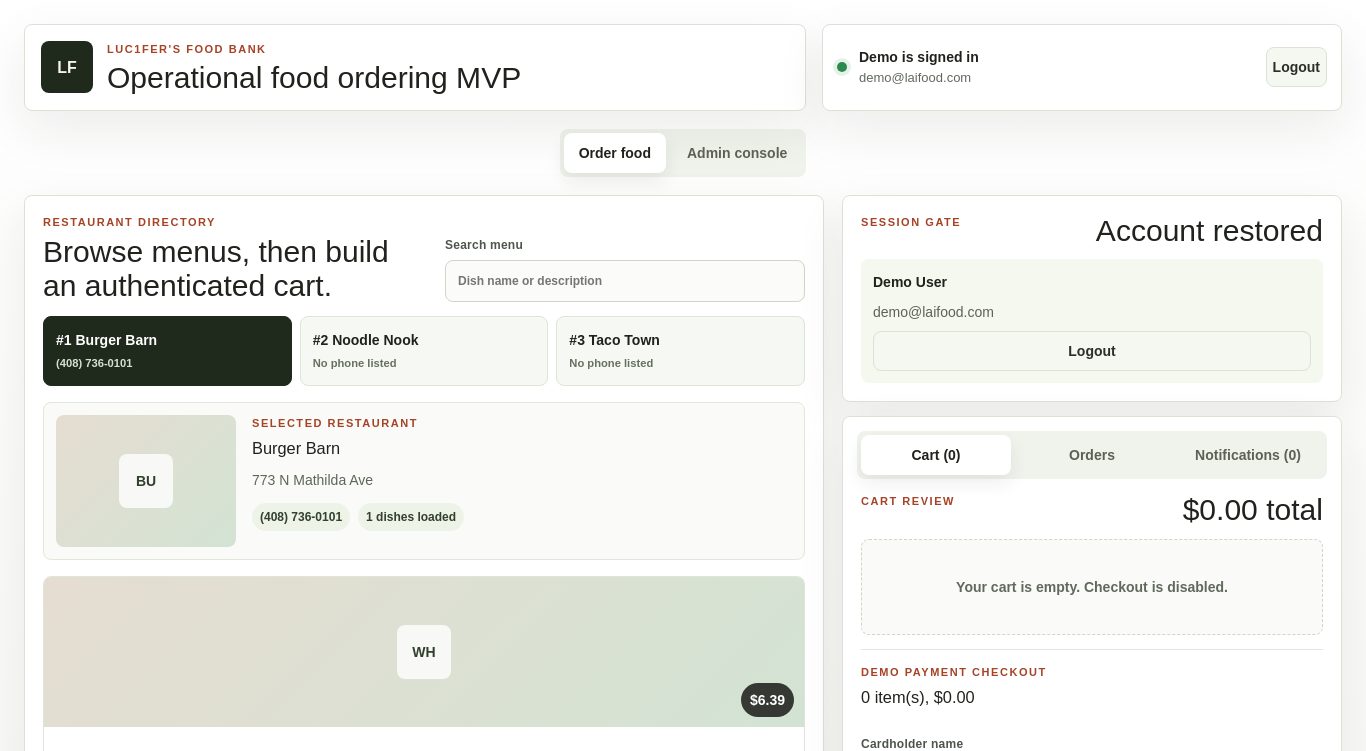
Test: role-based workspaces › lets a customer who is an admin switch between ordering and the admin console
expect the text "Demo is signed in" is shown: met, box [859,49,979,65]
Click the button "Admin console".
click(737, 153)  # box [672,133,802,173]
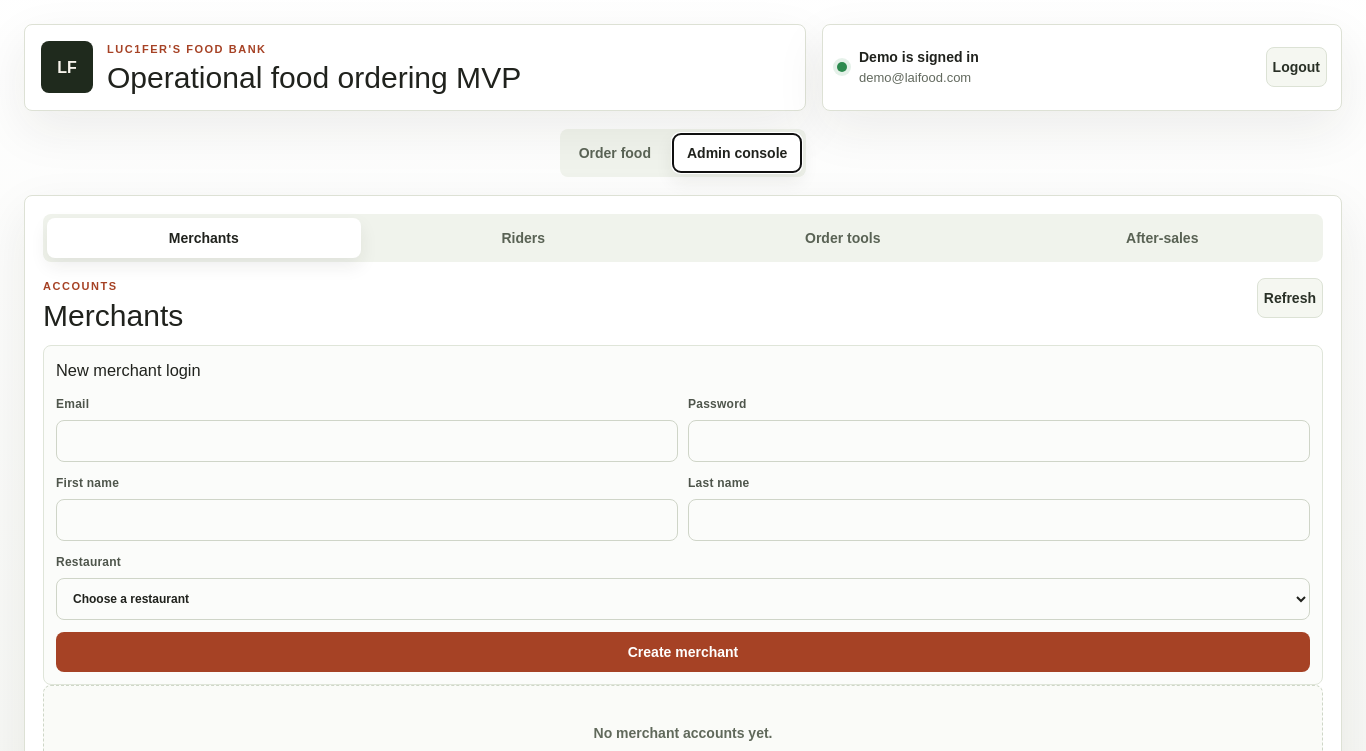
// Back on the ordering page the data is read again (the page itself was kept).
Click the button "Order food".
click(615, 153)  # box [564,133,666,173]
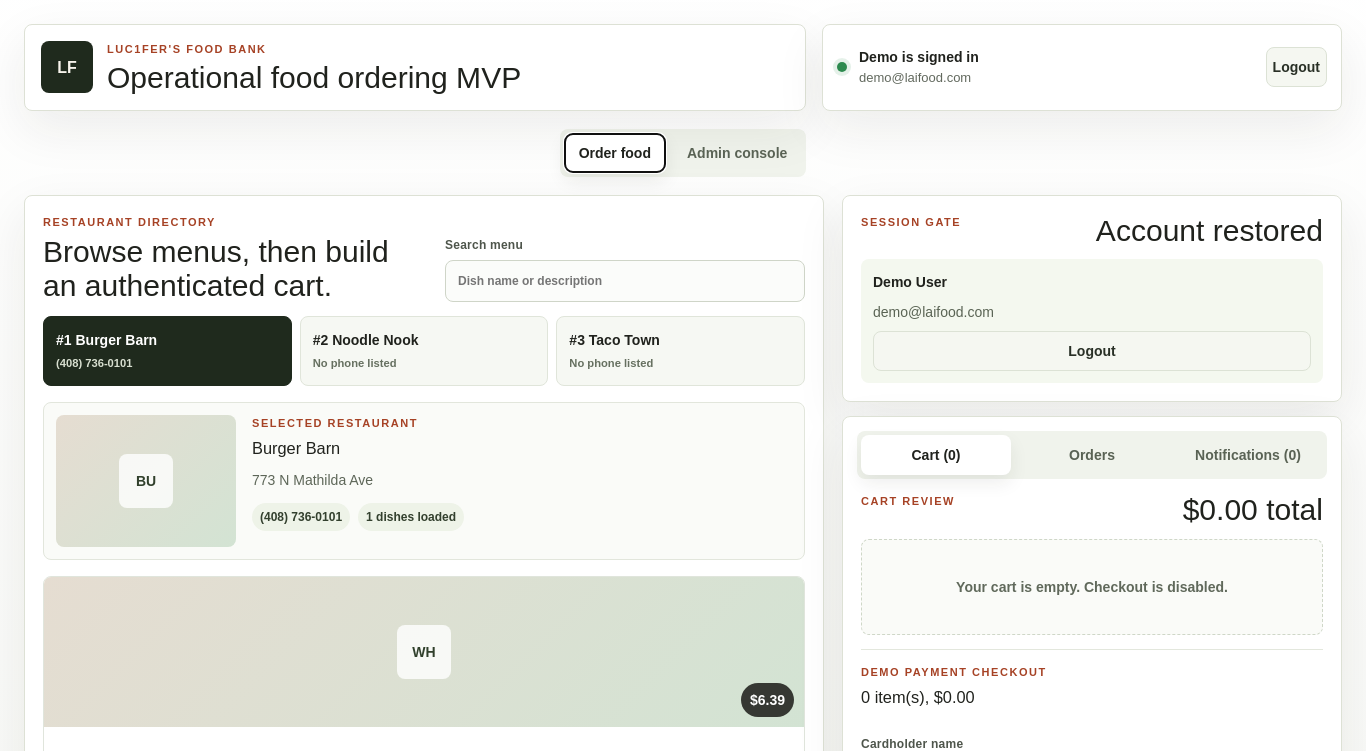
expect the button "Cart (0)" is shown: met, box [861,436,1011,476]
